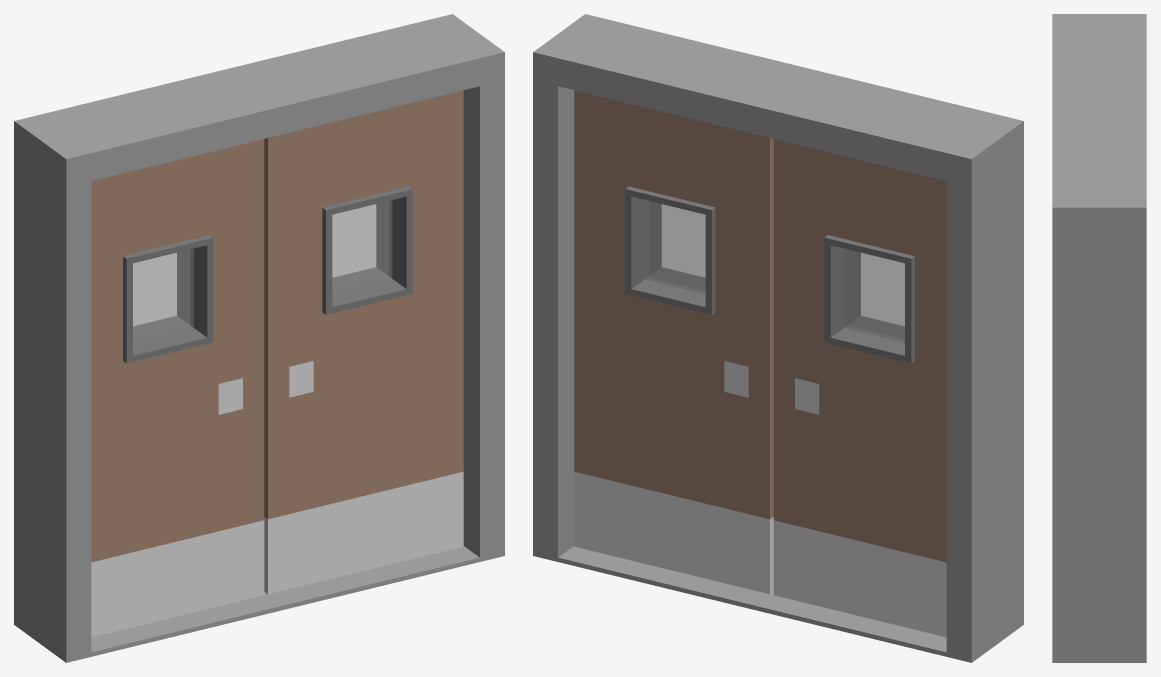
The model's file is porte deco 2.fbx.
3 renders of one model, left to right at view 1: azimuth 30°, elevation 25°; view 2: azimuth 150°, elevation 25°; view 3: azimuth 270°, elevation 25°, orthographic. The views are drawn at different scales.
Visible parts, largest first — view 1: porte_deco; view 2: porte_deco; view 3: porte_deco.
Part boxes in pixels (x1=…): porte_deco: x1=14, y1=14, x2=504, y2=662; porte_deco: x1=533, y1=14, x2=1023, y2=662; porte_deco: x1=1052, y1=14, x2=1146, y2=662.
Size of the model in its own units: 2.93 by 3.21 by 0.6034.
